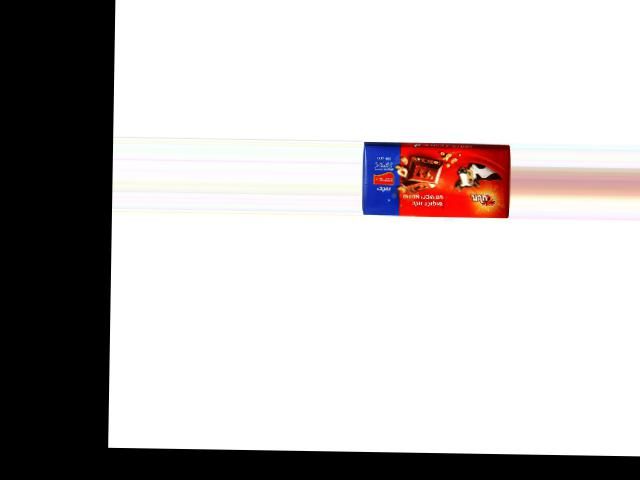chocolate: (362, 142, 511, 217)
